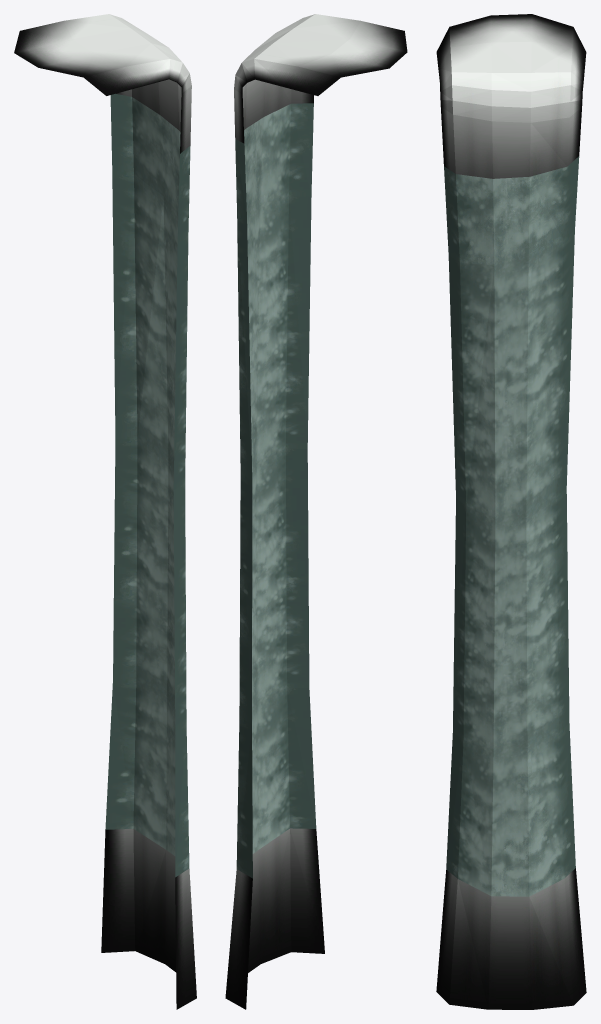
File: waterfall_tall_01.fbx
3 views of the same model, side by side, from view 1: azimuth 30°, elevation 25°; view 2: azimuth 150°, elevation 25°; view 3: azimuth 270°, elevation 25° (orthographic). The views are drawn at different scales.
Visible parts, largest first — view 1: obj1.051; view 2: obj1.051; view 3: obj1.051.
Boxes of the visible parts, box(x1,y1,x2,y2) form: obj1.051: box(14, 14, 196, 1009); obj1.051: box(225, 14, 407, 1009); obj1.051: box(436, 14, 586, 1009).
Size of the model in its own units: 7.42 by 44.39 by 6.54.
